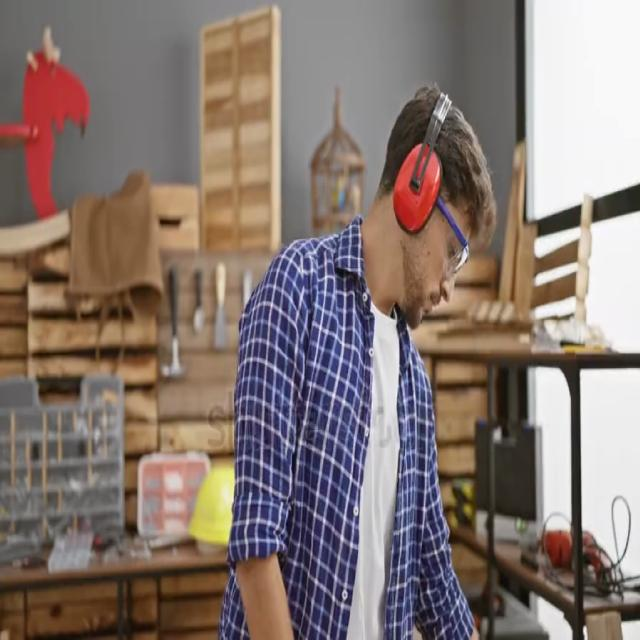Ear-Protection: (379, 131, 442, 243)
Glasses: (430, 190, 474, 282)
